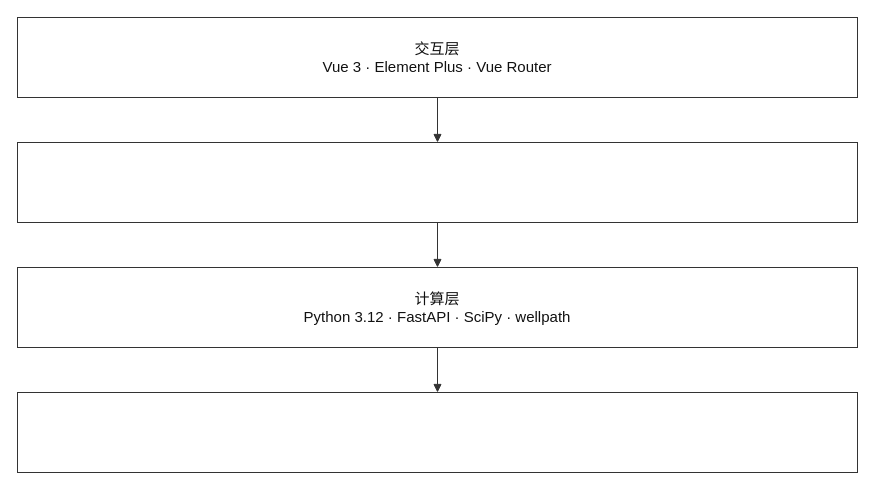
Image size: 875x490. Some labels were removed from this diagram. Here are the shapes that lost their labels. From the top down, the centre of each, then its label:
point (437, 182): 业务层 Java 17 · Spring Boot · Apache Shiro
point (437, 432): 存储与部署 MySQL · 文件目录 · Maven · Vite
